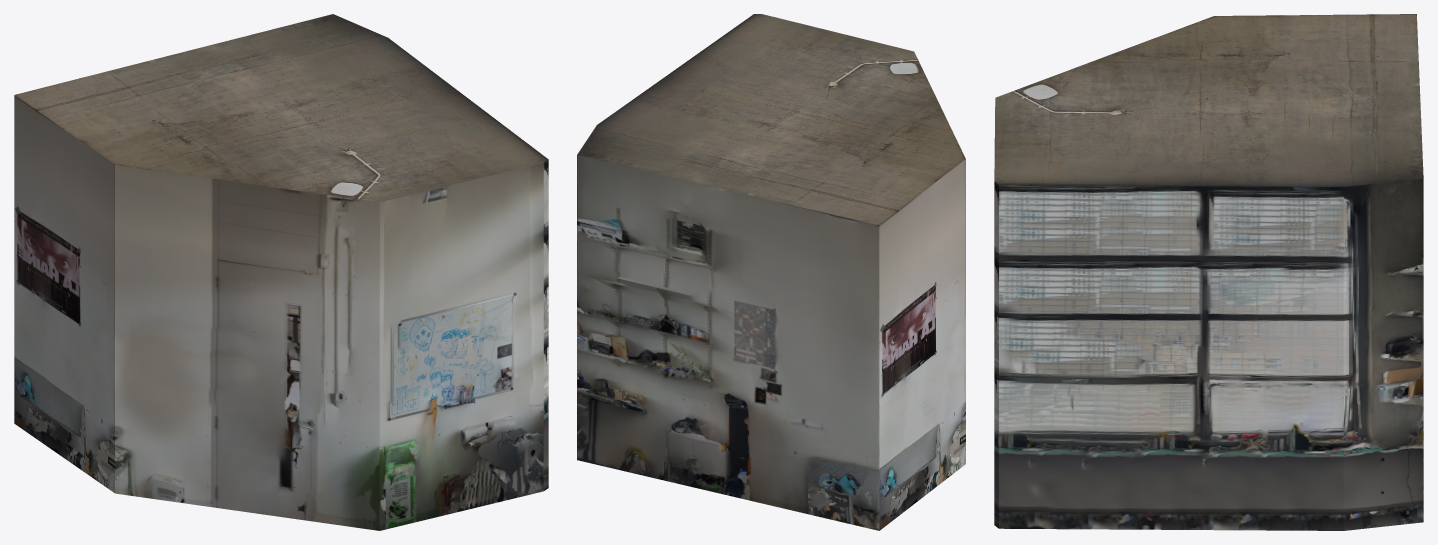
3 views of the same model, side by side, from view 1: azimuth 30°, elevation 25°; view 2: azimuth 150°, elevation 25°; view 3: azimuth 270°, elevation 25° (orthographic). The views are drawn at different scales.
Parts seen in each view (by area): view 1: M210-IM; view 2: M210-IM; view 3: M210-IM.
Part boxes in pixels (x1,y1,x2,y2): M210-IM: [14, 14, 548, 530]; M210-IM: [577, 14, 965, 530]; M210-IM: [994, 14, 1423, 530].
Size of the model in its own units: 331 by 306 by 347.
1 material, 1 textured.
